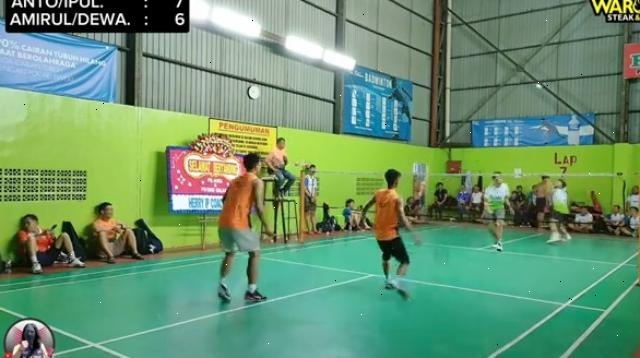Shuttlecock: (532, 78, 544, 92)
